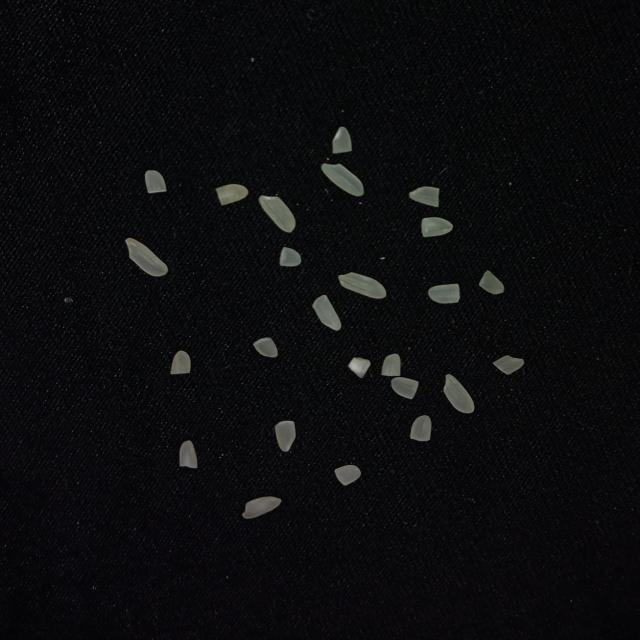Broken: (312, 295, 341, 331), (216, 184, 249, 206), (275, 420, 296, 452), (428, 283, 460, 304), (421, 217, 453, 237), (409, 187, 440, 207), (493, 355, 524, 375), (334, 464, 362, 486), (391, 377, 419, 399), (479, 270, 504, 294), (410, 415, 431, 442), (332, 126, 352, 154), (253, 337, 278, 358), (145, 170, 167, 193), (170, 350, 191, 374), (180, 440, 198, 468), (348, 357, 371, 378), (279, 247, 302, 267), (382, 353, 401, 376)
Full: (125, 238, 168, 276), (321, 163, 364, 197), (259, 195, 296, 233), (338, 272, 387, 299), (443, 374, 475, 414), (242, 496, 282, 519)
